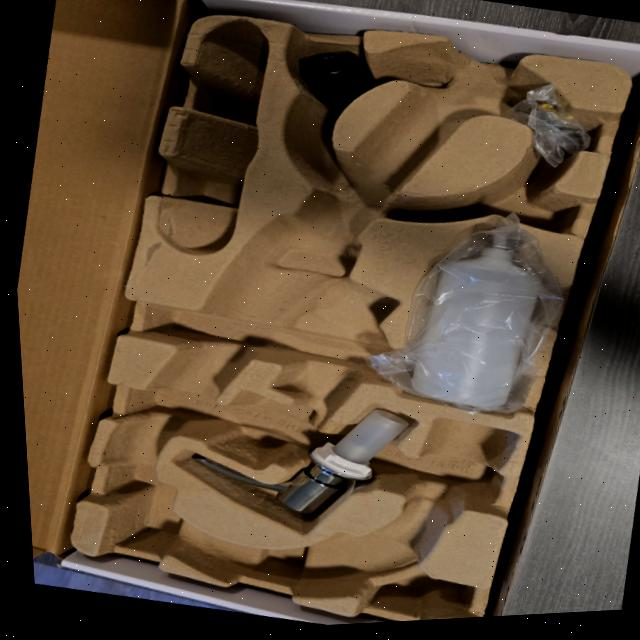1m: (103, 42, 530, 598)
2: (188, 409, 411, 517)
3: (409, 225, 550, 411)
4m: (157, 20, 265, 257)
5: (296, 52, 377, 110)
6: (510, 79, 591, 166)
7m: (434, 160, 588, 233)
